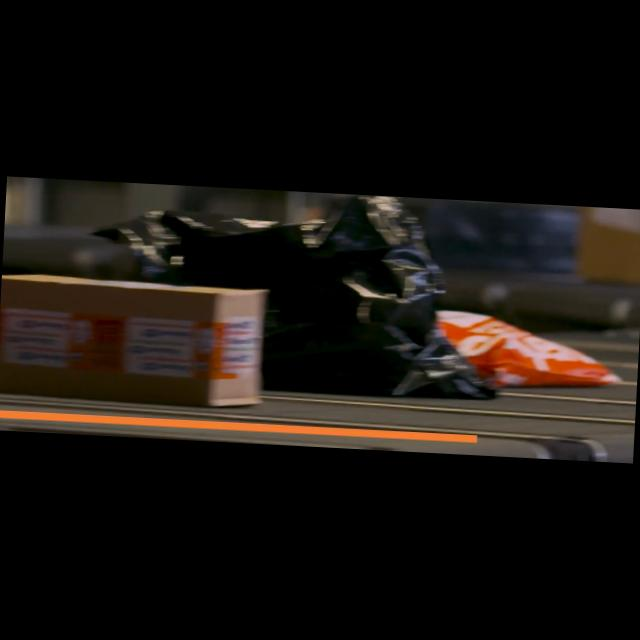box: (0, 272, 269, 410)
mailer: (124, 183, 502, 402), (426, 303, 624, 391)
